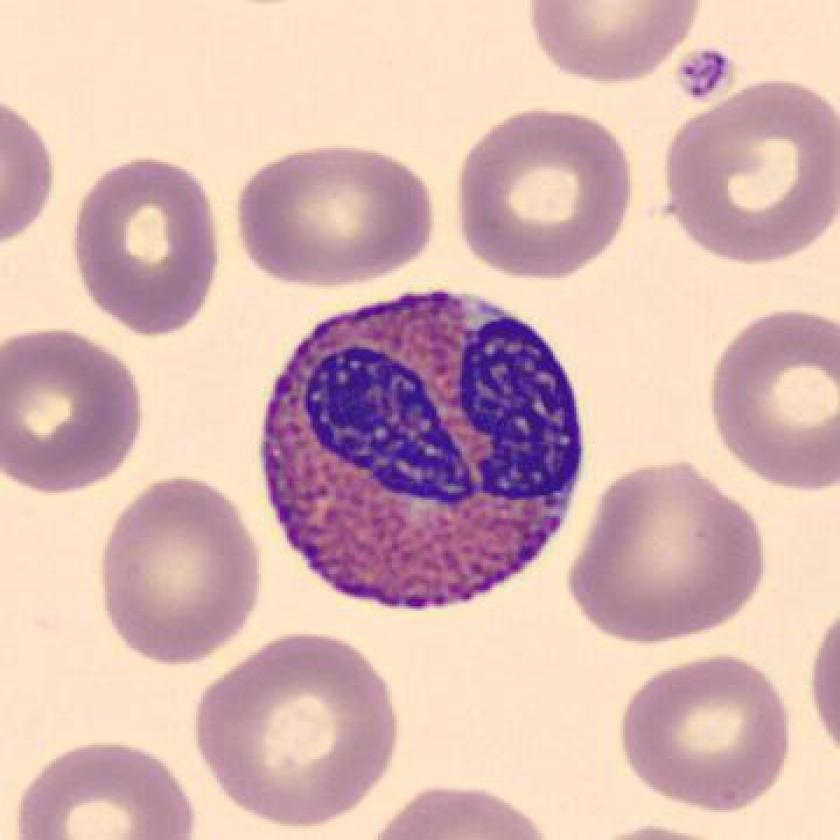eosinophil: (253, 281, 596, 630)
